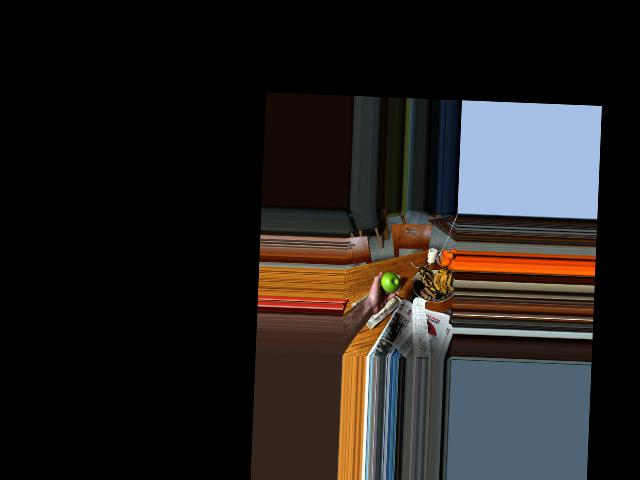apple: (380, 271, 399, 294)
